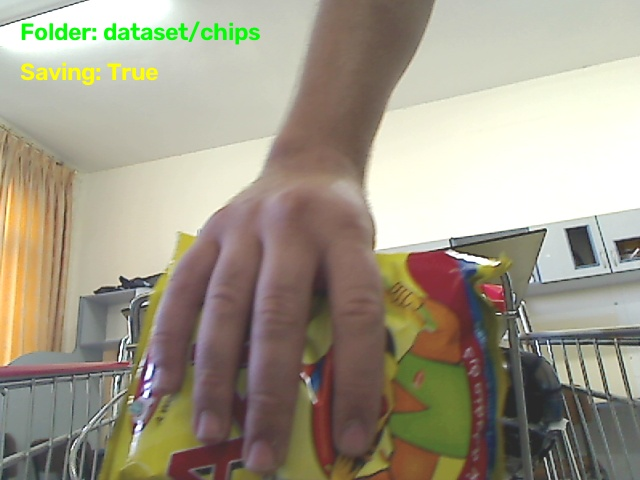chips: (277, 251, 506, 479)
